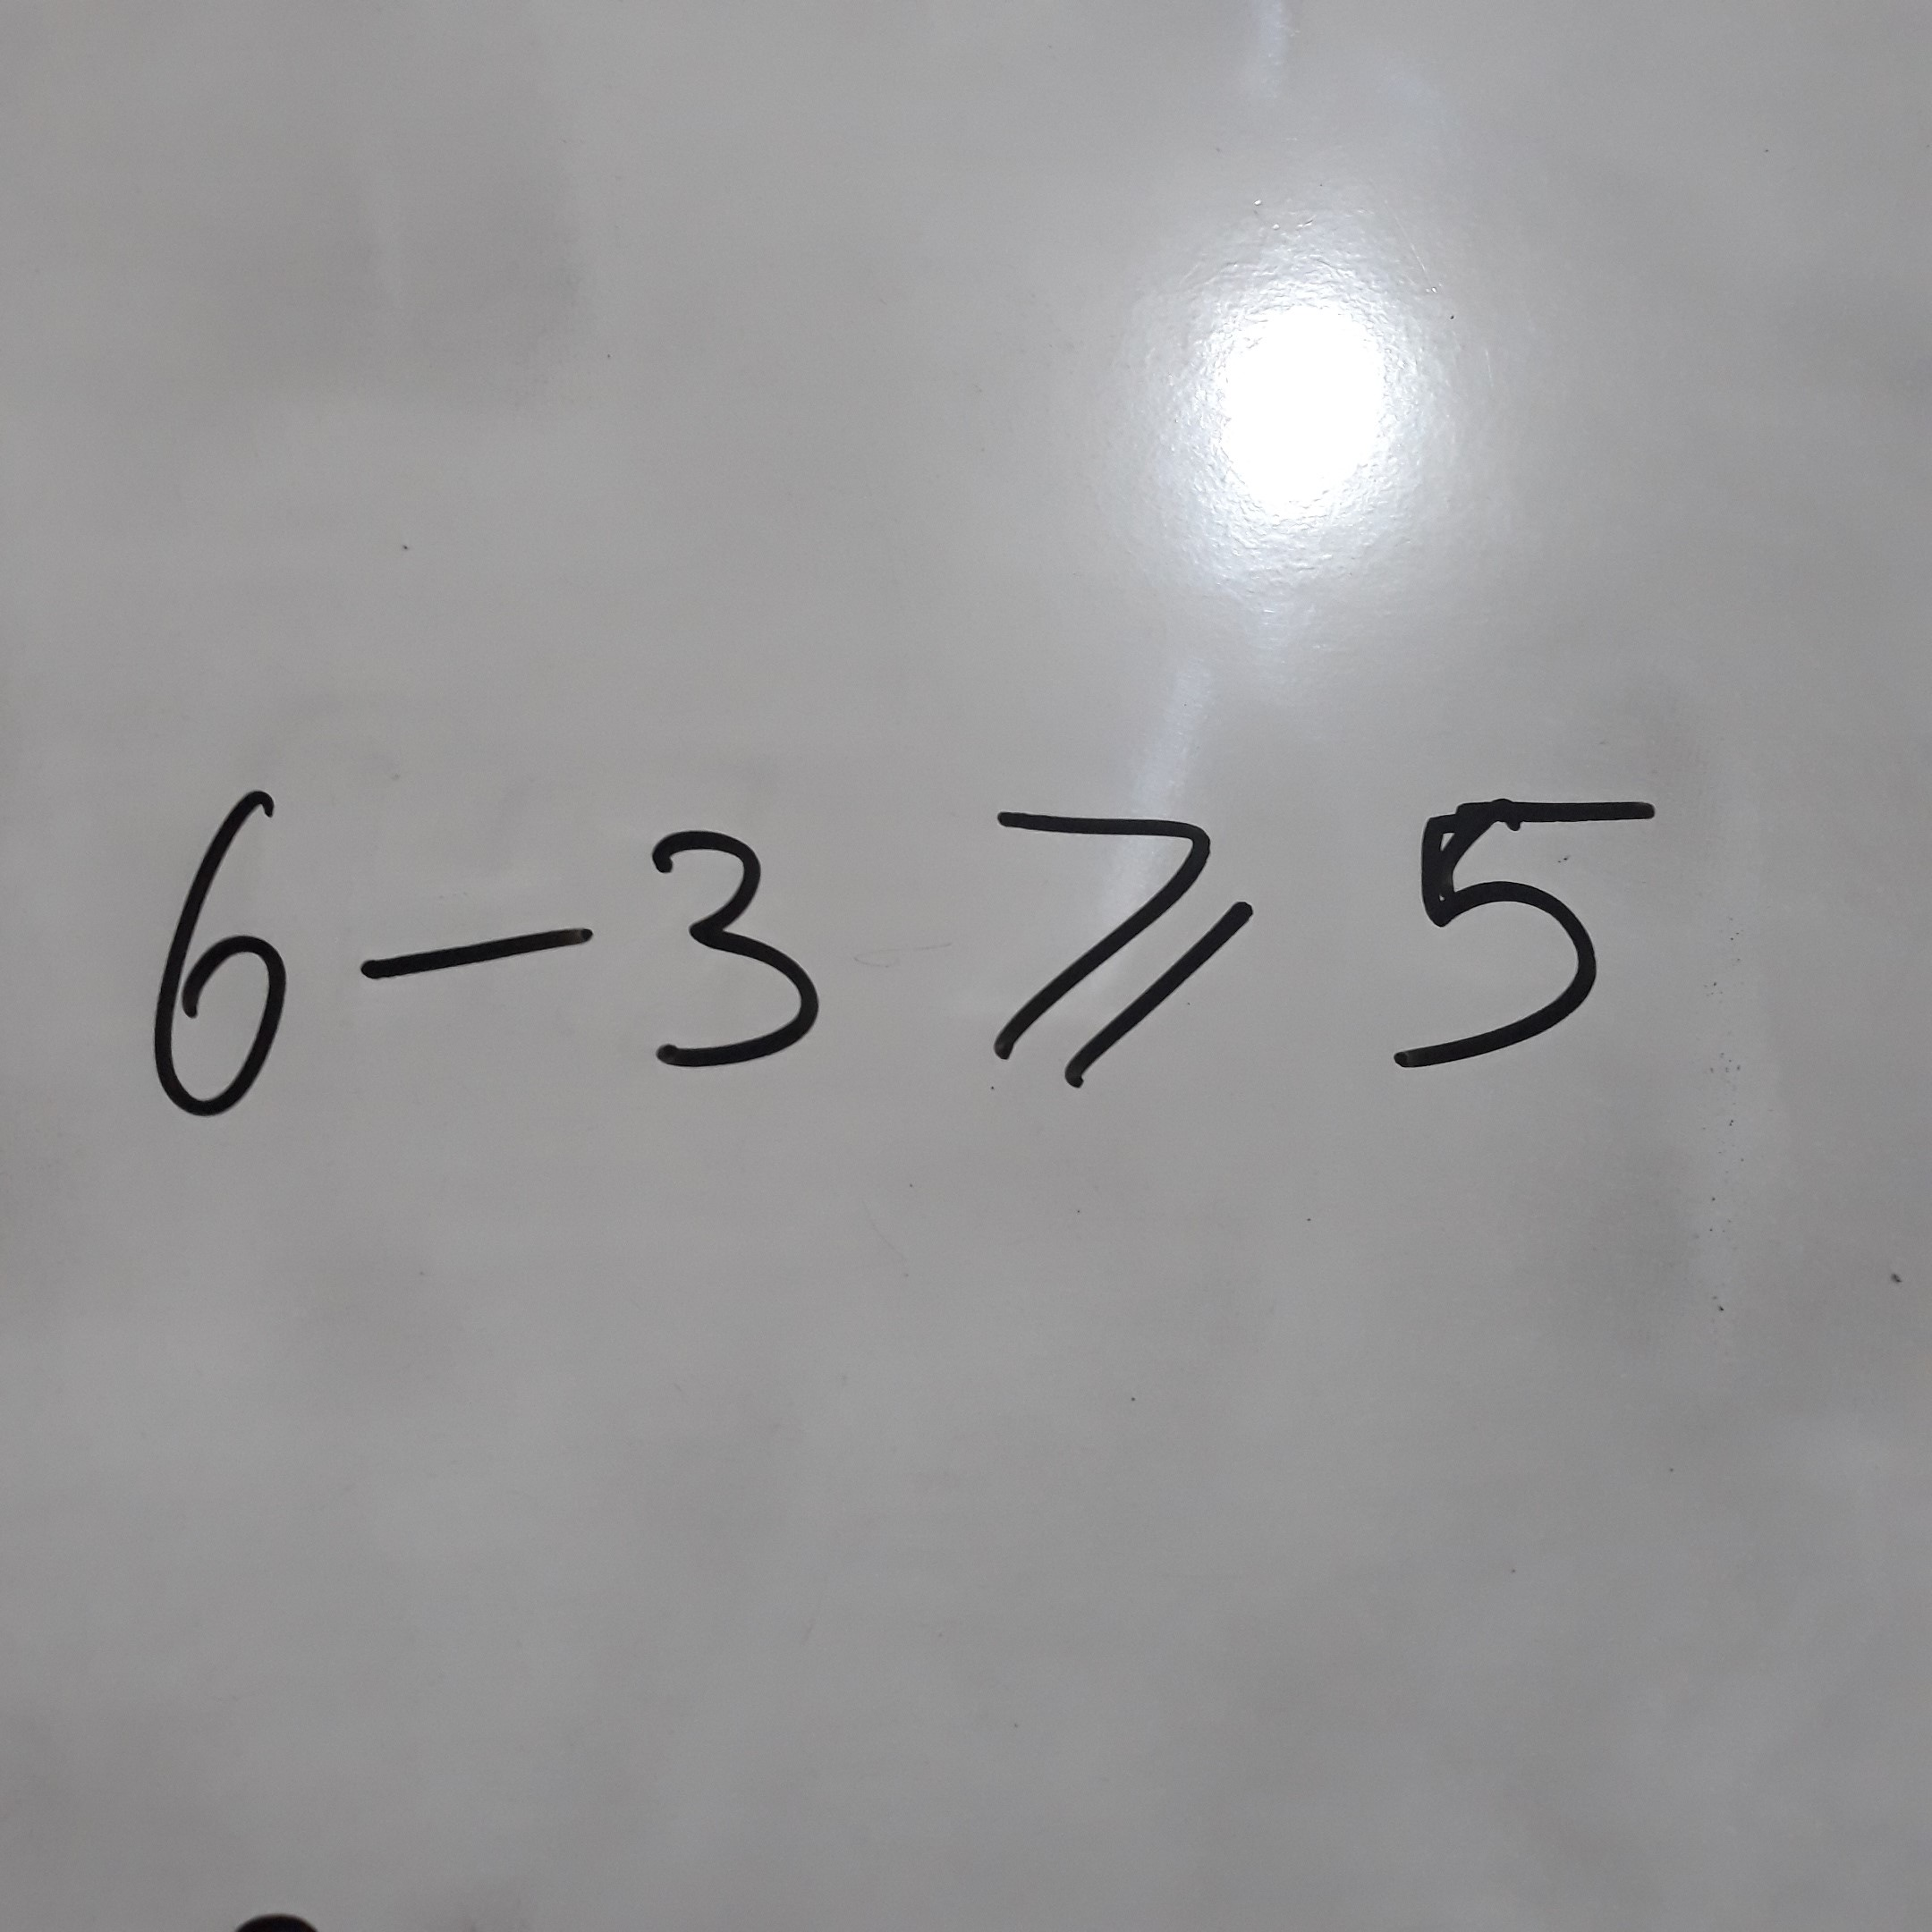min: (353, 890, 606, 1014)
morethan-equal: (949, 772, 1275, 1110)
num3: (636, 785, 841, 1110)
num5: (1372, 761, 1698, 1099)
num6: (118, 756, 334, 1150)
